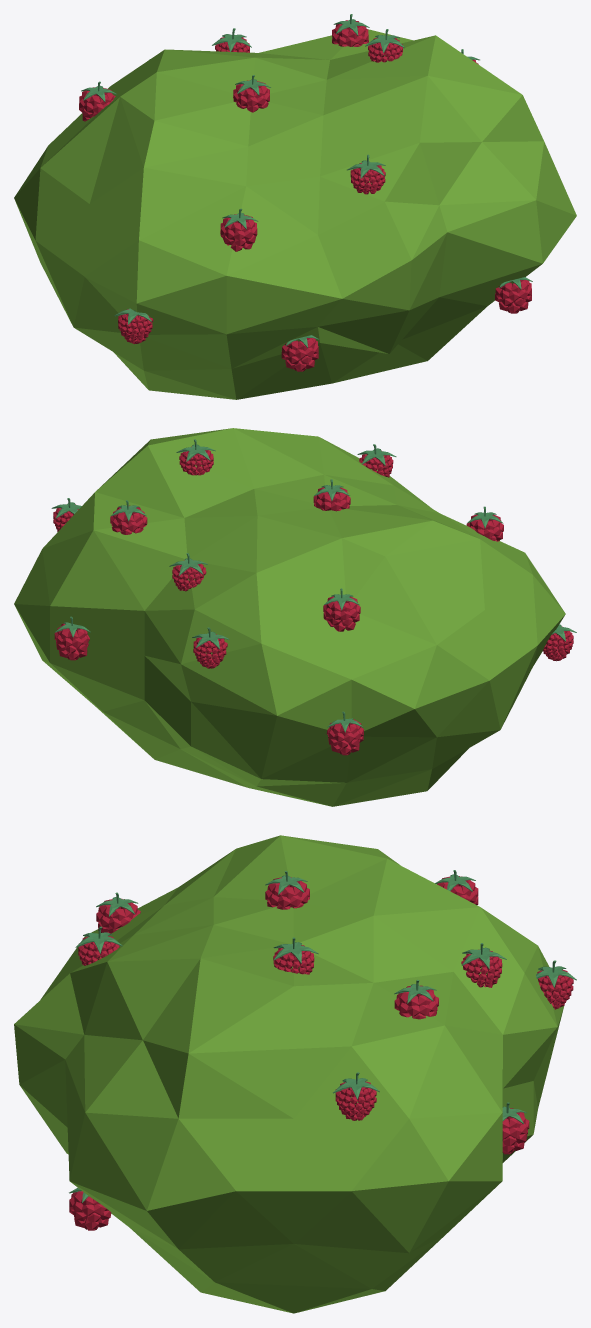
File: Himbeerbusch.fbx
3 views of the same model, one above another, from view 1: azimuth 30°, elevation 25°; view 2: azimuth 150°, elevation 25°; view 3: azimuth 270°, elevation 25° (orthographic). The views are drawn at different scales.
Parts seen in each view (by area): view 1: Busch_, Himbeeren; view 2: Busch_, Himbeeren; view 3: Busch_, Himbeeren.
Boxes of the visible parts, box(x1,y1,x2,y2) form: Busch_: box(14, 29, 576, 399); Himbeeren: box(79, 14, 532, 371); Busch_: box(14, 428, 565, 806); Himbeeren: box(51, 439, 576, 755); Busch_: box(14, 835, 563, 1313); Himbeeren: box(69, 870, 576, 1230).
Bounding box in the file's own units: 141 × 93.06 × 126.
